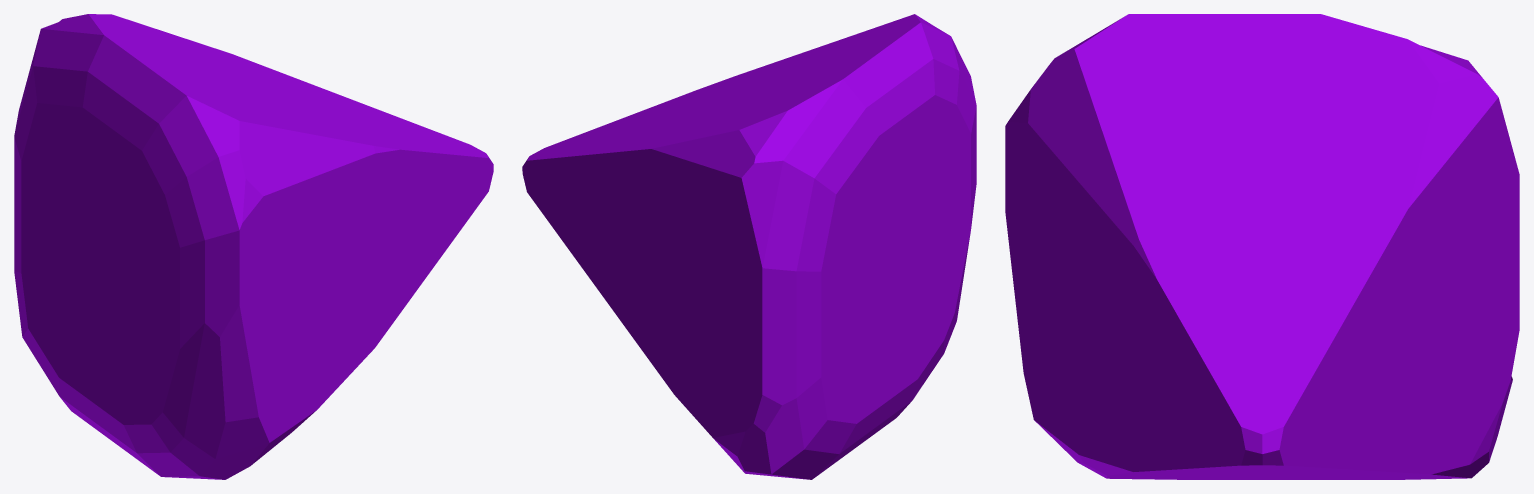
File: kristal_09.fbx
3 renders of one model, left to right at view 1: azimuth 30°, elevation 25°; view 2: azimuth 150°, elevation 25°; view 3: azimuth 270°, elevation 25°, orthographic. The views are drawn at different scales.
Visible parts, largest first — view 1: kristal_09; view 2: kristal_09; view 3: kristal_09.
Part boxes in pixels (x1=…): kristal_09: x1=14, y1=14, x2=493, y2=479; kristal_09: x1=522, y1=14, x2=976, y2=479; kristal_09: x1=1005, y1=14, x2=1519, y2=479.
Bounding box in the file's own units: 0.473 × 0.4585 × 0.4585.
